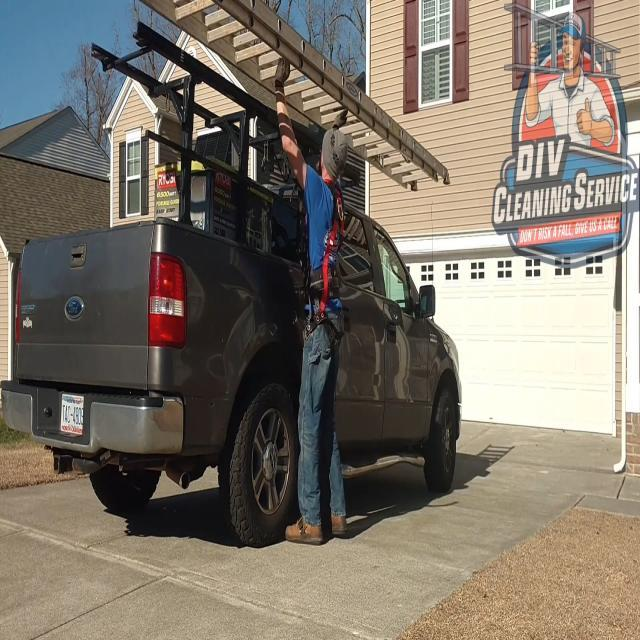belt: (304, 172, 348, 346)
